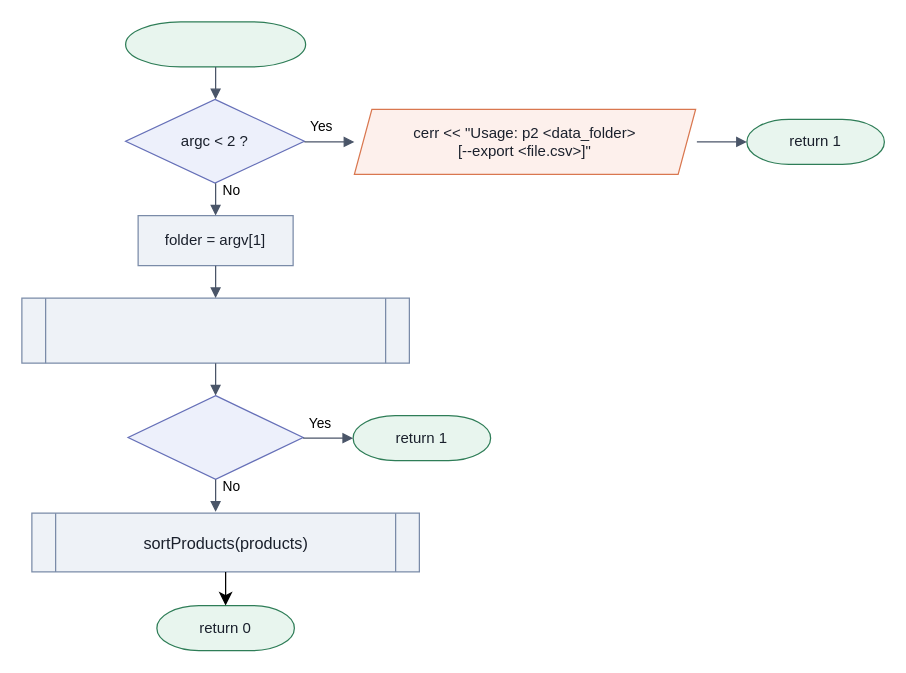
Some shapes in this 906 by 673 pixel diagram are drawn without their labels. Each missing label, with the box of its shape:
!ok ?: (127, 394, 303, 479)
main(argc, argv): (124, 21, 306, 67)
ok = loadProducts(folder + "/products.csv", products): (21, 297, 409, 363)
